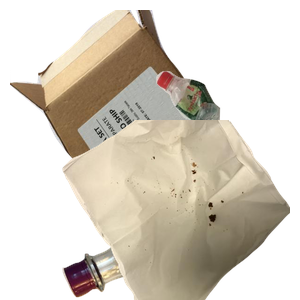cardboard: (10, 10, 227, 190)
glass: (60, 180, 300, 300)
plastic: (153, 68, 300, 190)
trash: (60, 120, 300, 300)
